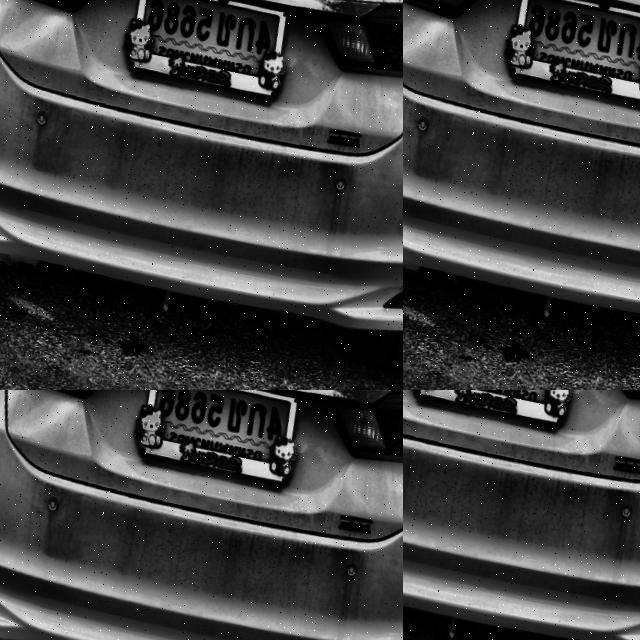license-plate: (403, 390, 581, 429), (291, 96, 319, 119)
